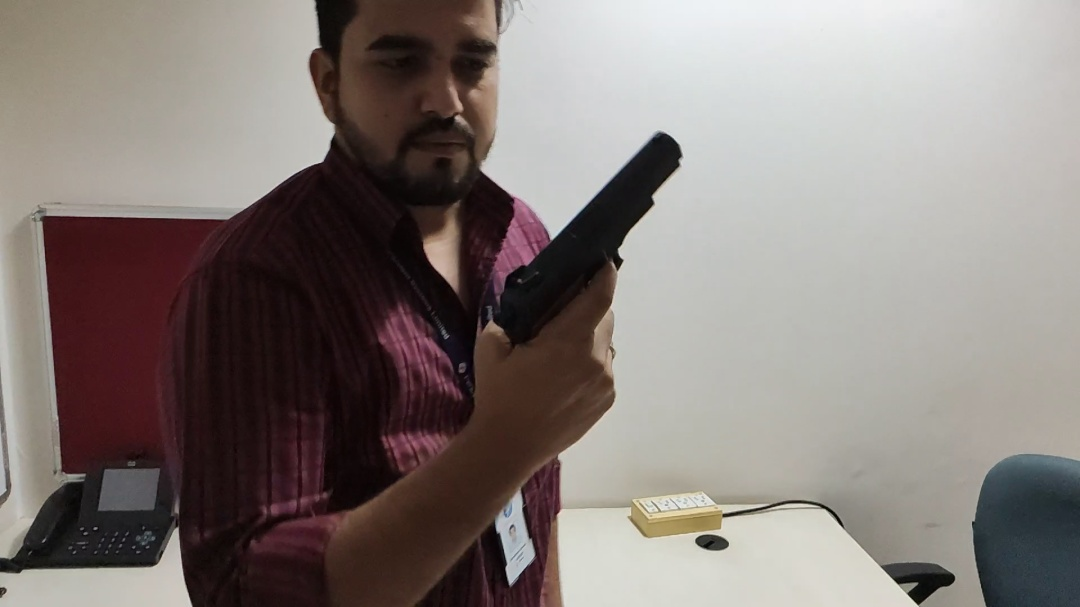gun: (496, 112, 697, 430)
